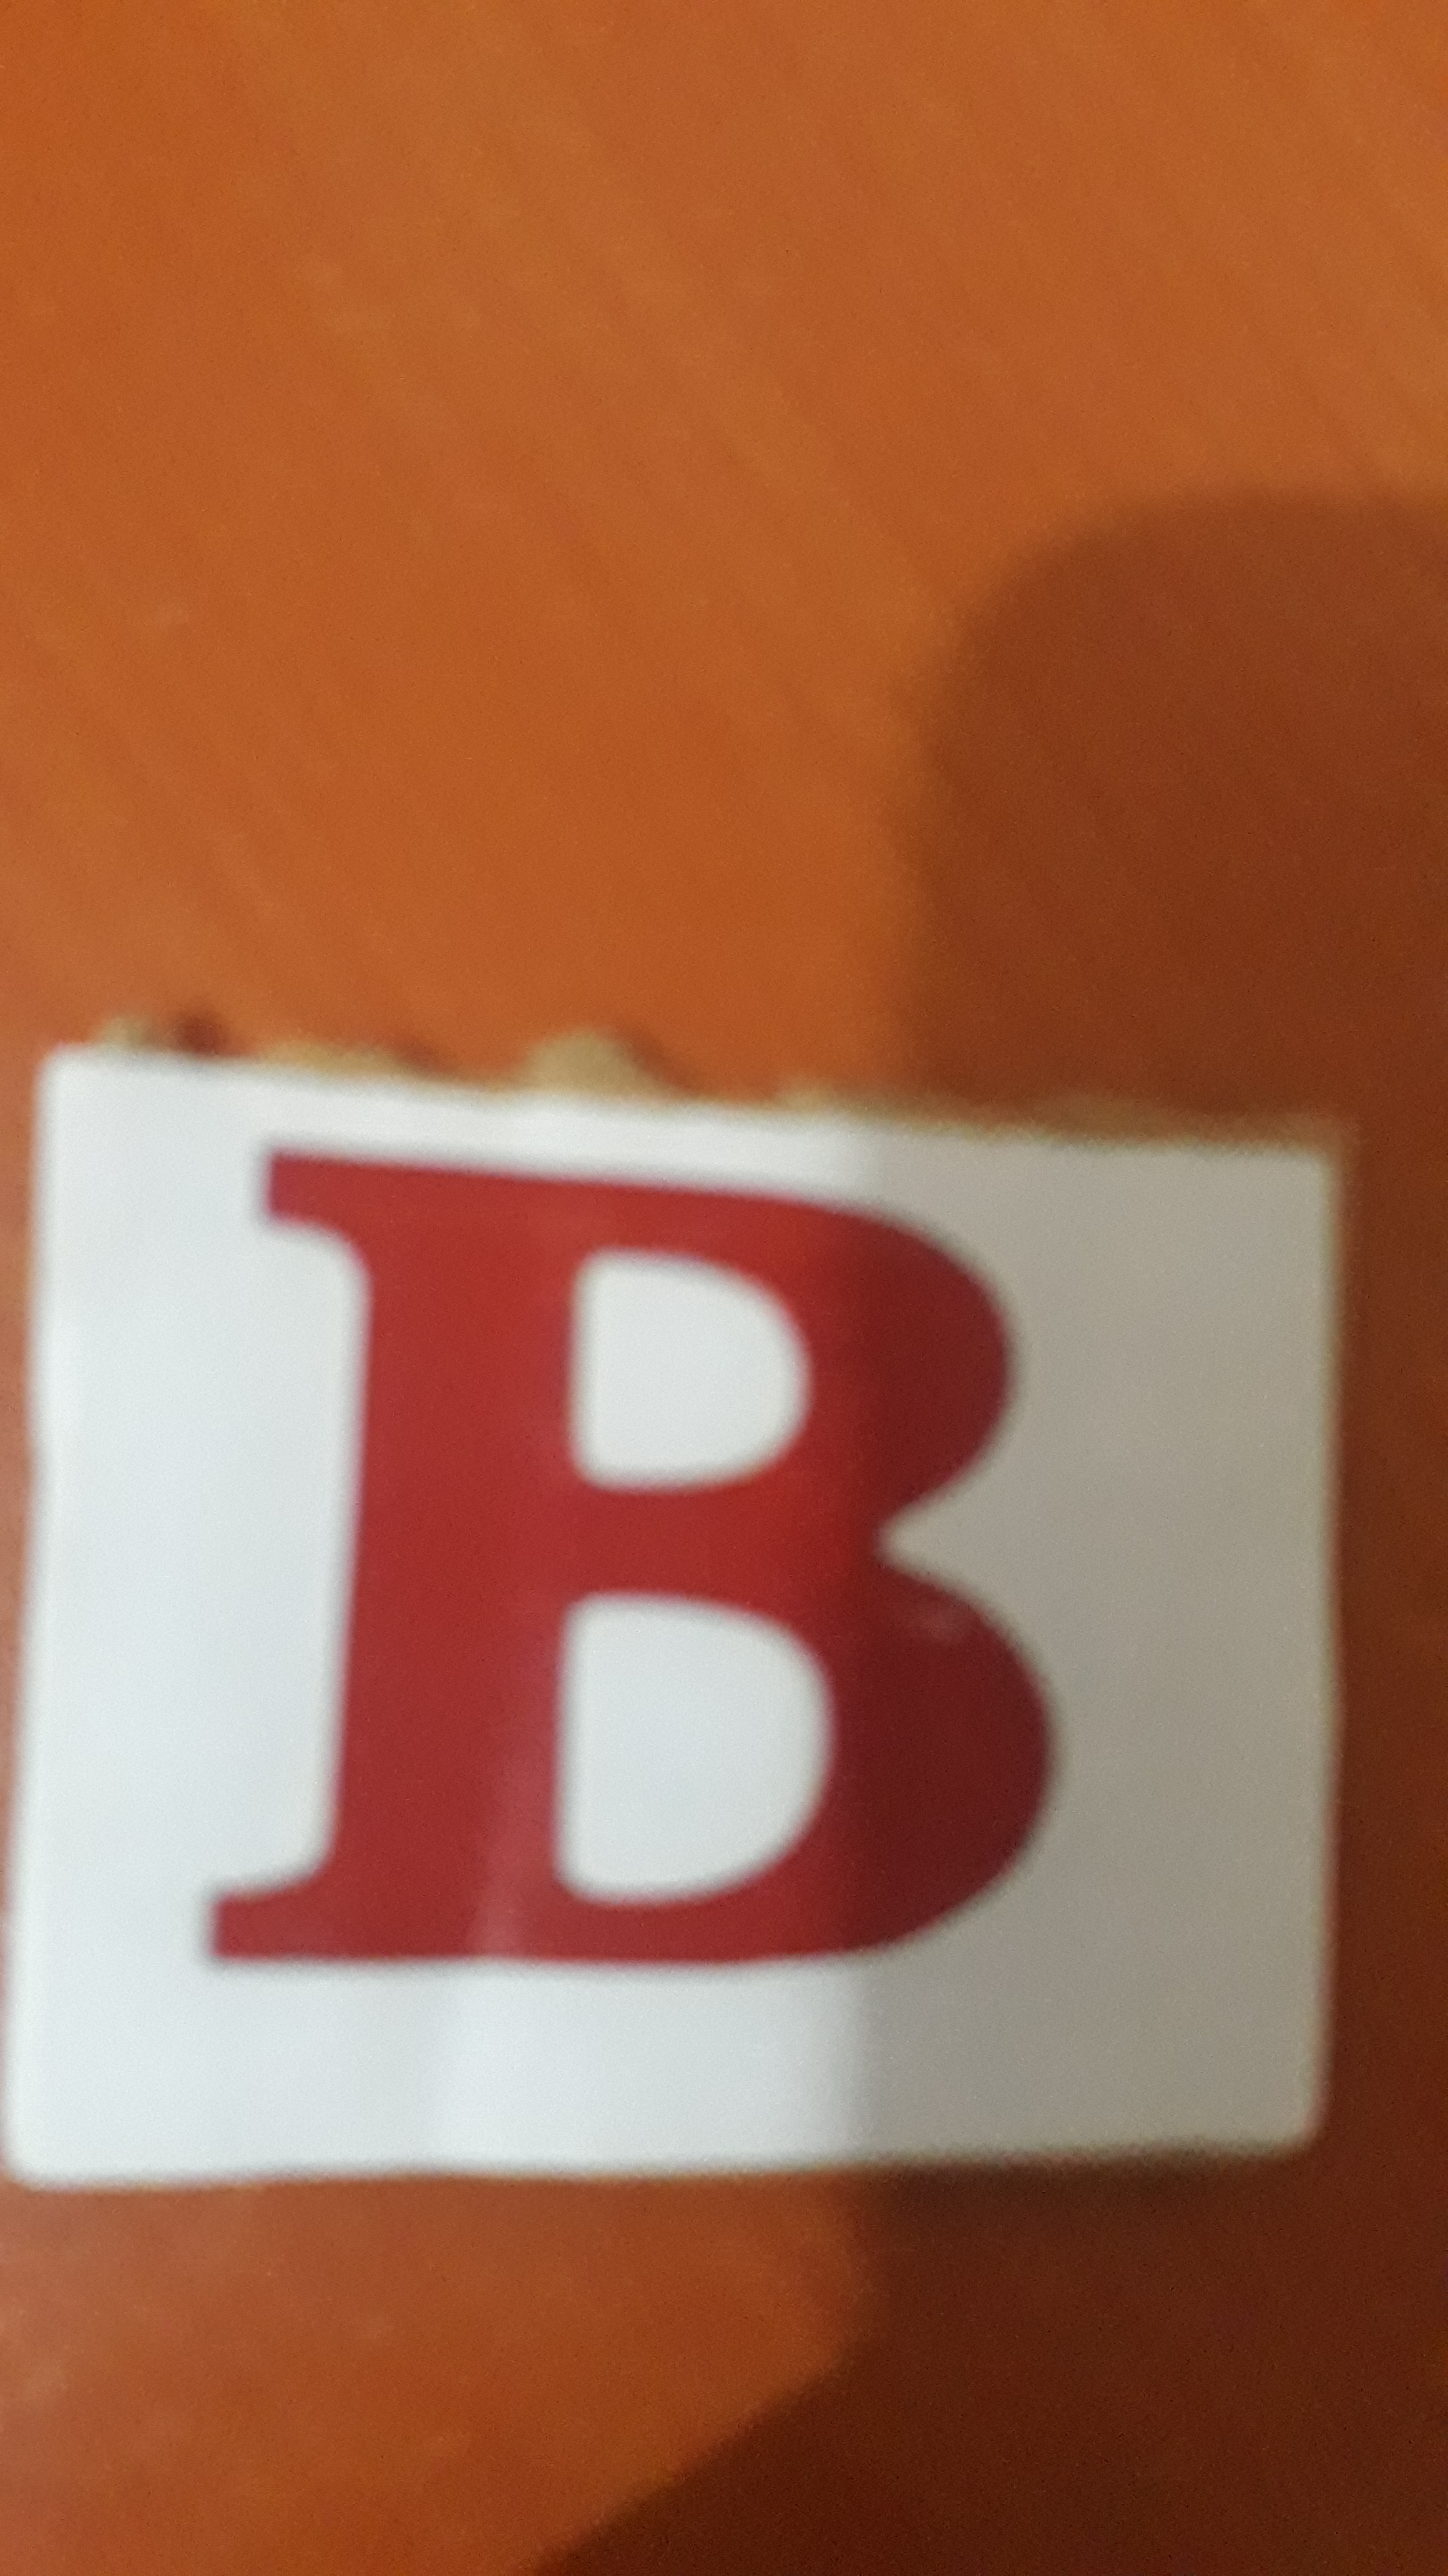zone B: (150, 1100, 1154, 2065)
